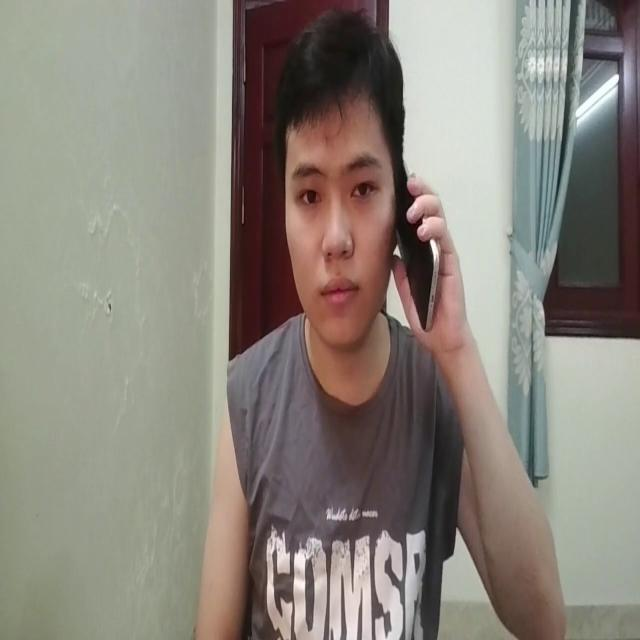phone: (390, 149, 445, 359)
student: (199, 8, 572, 640)
